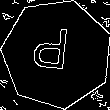P_S: (36, 27, 78, 81)
